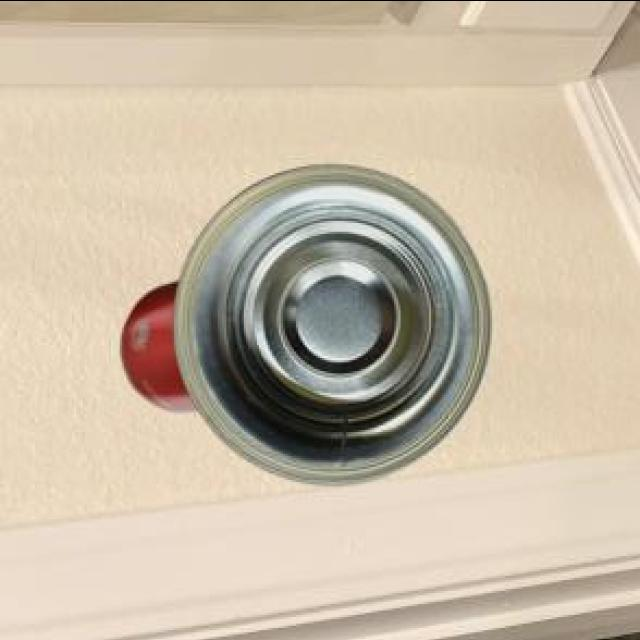logam: (171, 162, 489, 480), (119, 278, 195, 408)
